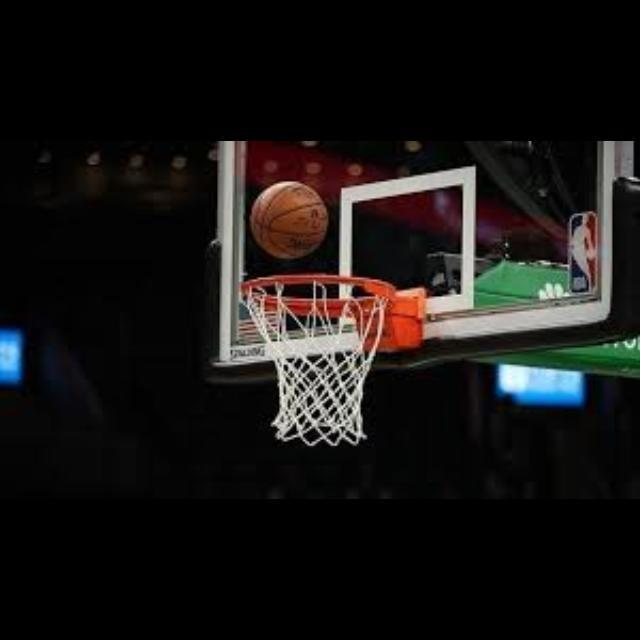basketball: (252, 182, 326, 258)
rim: (242, 276, 392, 446)
